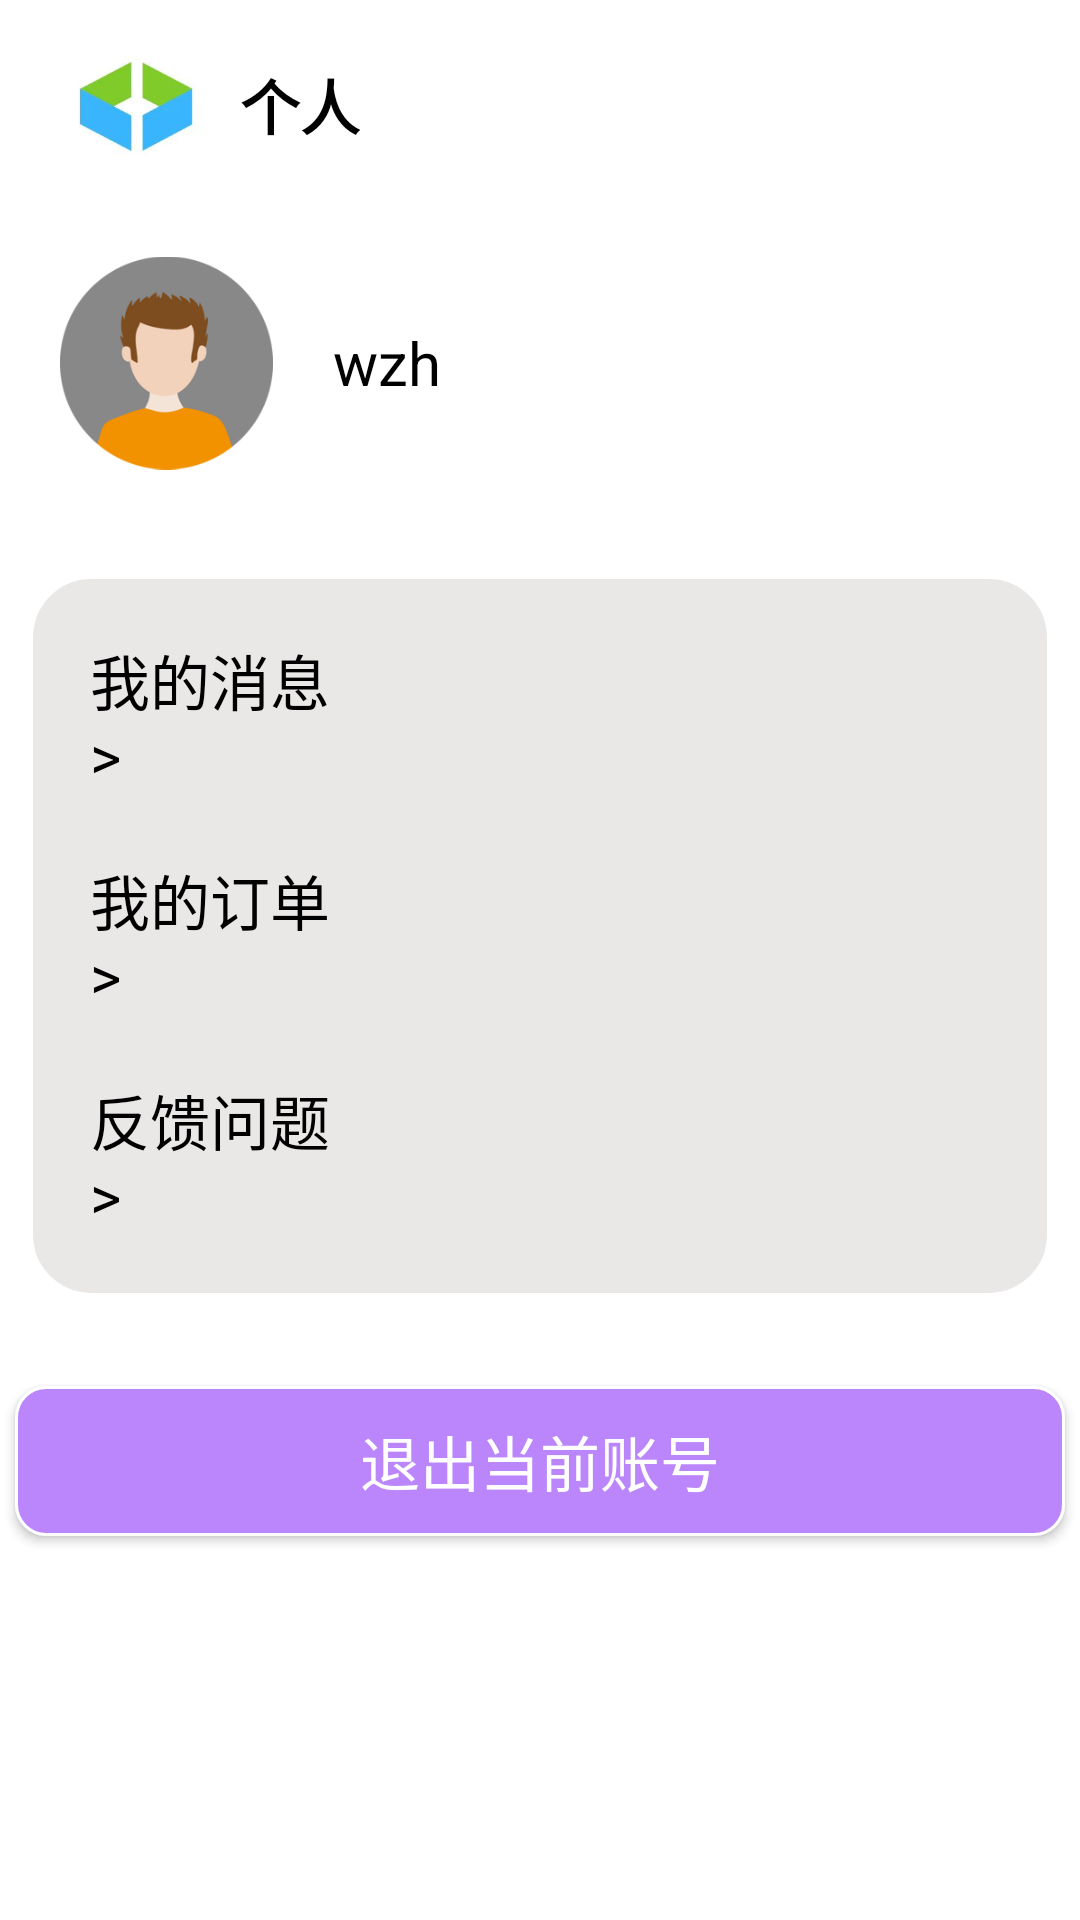

Where icons sit on this 1080px x 1920px app screen, as bbox=[x1, y1, x2, y2]:
useicon: bbox=[60, 257, 273, 470]
